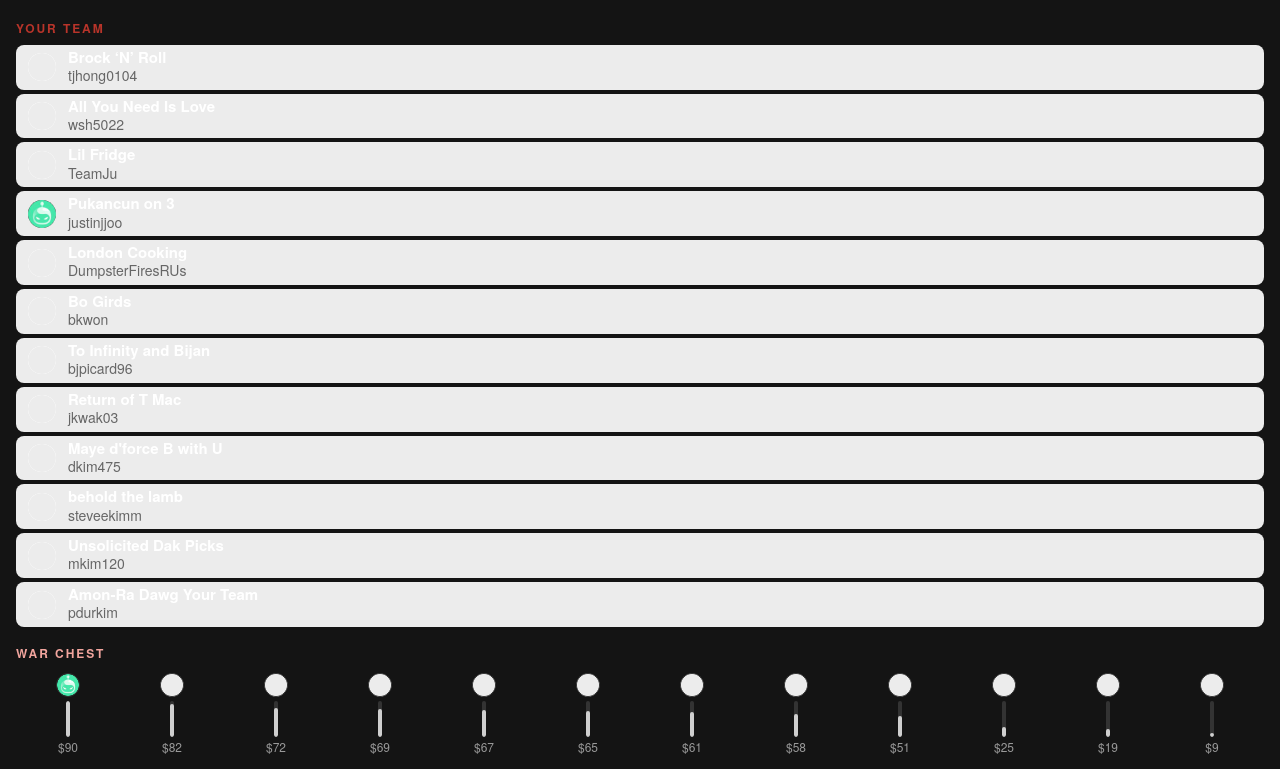
Scenario: the team pick across visits › keeps the page working for the visit when storage throws
The image size is (1280, 769).
Click the radio button labelled "Lil Fridge TeamJu" at (82, 163), box [28, 144, 135, 183]
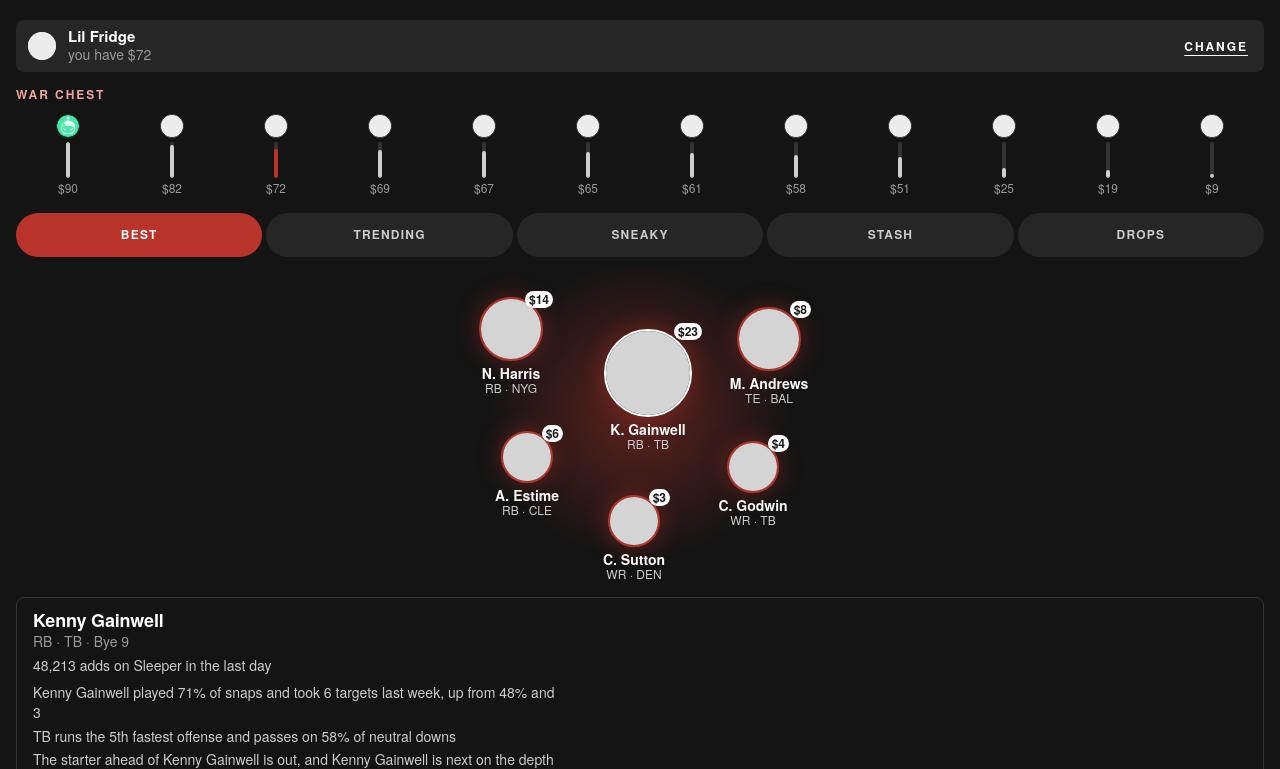
Result: the text "you have $72" is shown at [68, 44, 151, 64]
